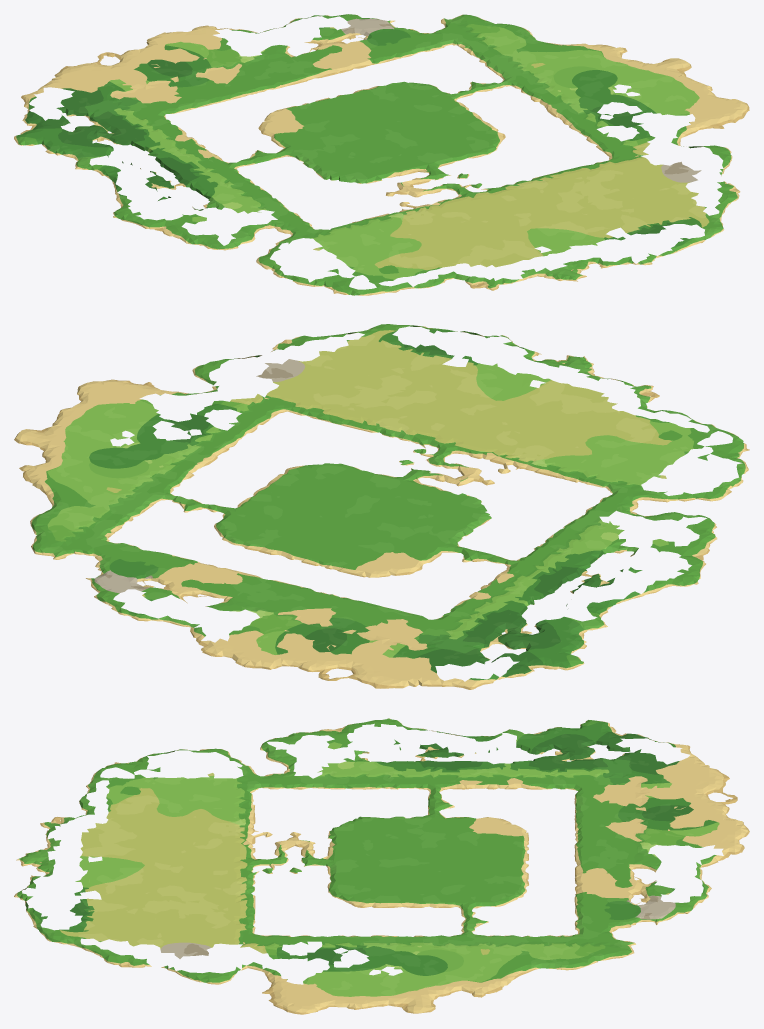
Rendered from Isl-orc4-Ground.fbx.
The picture shows the model from 3 angles, top to bottom: view 1: azimuth 30°, elevation 25°; view 2: azimuth 150°, elevation 25°; view 3: azimuth 270°, elevation 25°; orthographic projection. The views are drawn at different scales.
Parts seen in each view (by area): view 1: Isl-orc4-Ground-c12, Isl-orc4-Ground-c11, Isl-orc4-Ground-c21, Isl-orc4-Ground-c22, Isl-orc4-Ground-c13, Isl-orc4-Ground-c02, Isl-orc4-Ground-c10, Isl-orc4-Ground-c20, Isl-orc4-Ground-c01, Isl-orc4-Ground-c31, Isl-orc4-Ground-c32; view 2: Isl-orc4-Ground-c12, Isl-orc4-Ground-c11, Isl-orc4-Ground-c21, Isl-orc4-Ground-c22, Isl-orc4-Ground-c13, Isl-orc4-Ground-c02, Isl-orc4-Ground-c20, Isl-orc4-Ground-c10, Isl-orc4-Ground-c01, Isl-orc4-Ground-c31, Isl-orc4-Ground-c32, Isl-orc4-Ground-c23; view 3: Isl-orc4-Ground-c12, Isl-orc4-Ground-c11, Isl-orc4-Ground-c21, Isl-orc4-Ground-c22, Isl-orc4-Ground-c13, Isl-orc4-Ground-c02, Isl-orc4-Ground-c20, Isl-orc4-Ground-c10, Isl-orc4-Ground-c31, Isl-orc4-Ground-c01, Isl-orc4-Ground-c32.
Boxes of the visible parts, x1=… form: Isl-orc4-Ground-c12: x1=33, y1=45, x2=421, y2=197; Isl-orc4-Ground-c11: x1=192, y1=139, x2=565, y2=295; Isl-orc4-Ground-c21: x1=422, y1=78, x2=740, y2=243; Isl-orc4-Ground-c22: x1=304, y1=14, x2=672, y2=139; Isl-orc4-Ground-c13: x1=30, y1=25, x2=272, y2=94; Isl-orc4-Ground-c02: x1=14, y1=94, x2=170, y2=217; Isl-orc4-Ground-c10: x1=366, y1=244, x2=590, y2=295; Isl-orc4-Ground-c20: x1=567, y1=206, x2=725, y2=268; Isl-orc4-Ground-c01: x1=113, y1=210, x2=266, y2=269; Isl-orc4-Ground-c31: x1=673, y1=76, x2=749, y2=122; Isl-orc4-Ground-c32: x1=648, y1=58, x2=691, y2=77; Isl-orc4-Ground-c12: x1=205, y1=496, x2=621, y2=681; Isl-orc4-Ground-c11: x1=349, y1=377, x2=749, y2=558; Isl-orc4-Ground-c21: x1=67, y1=335, x2=510, y2=496; Isl-orc4-Ground-c22: x1=19, y1=427, x2=348, y2=603; Isl-orc4-Ground-c13: x1=175, y1=620, x2=464, y2=688; Isl-orc4-Ground-c02: x1=466, y1=567, x2=697, y2=687; Isl-orc4-Ground-c20: x1=332, y1=324, x2=541, y2=377; Isl-orc4-Ground-c10: x1=511, y1=355, x2=731, y2=433; Isl-orc4-Ground-c01: x1=650, y1=491, x2=731, y2=583; Isl-orc4-Ground-c31: x1=52, y1=379, x2=132, y2=426; Isl-orc4-Ground-c32: x1=14, y1=424, x2=66, y2=448; Isl-orc4-Ground-c23: x1=94, y1=594, x2=178, y2=624; Isl-orc4-Ground-c12: x1=386, y1=746, x2=683, y2=873; Isl-orc4-Ground-c11: x1=92, y1=746, x2=389, y2=874; Isl-orc4-Ground-c21: x1=93, y1=870, x2=390, y2=997; Isl-orc4-Ground-c22: x1=386, y1=871, x2=683, y2=998; Isl-orc4-Ground-c13: x1=680, y1=748, x2=749, y2=873; Isl-orc4-Ground-c02: x1=388, y1=718, x2=682, y2=750; Isl-orc4-Ground-c20: x1=14, y1=870, x2=96, y2=952; Isl-orc4-Ground-c10: x1=16, y1=773, x2=96, y2=873; Isl-orc4-Ground-c31: x1=268, y1=994, x2=388, y2=1014; Isl-orc4-Ground-c01: x1=202, y1=718, x2=389, y2=749; Isl-orc4-Ground-c32: x1=388, y1=994, x2=436, y2=1013.
Size of the model in its own units: 105 by 0.4896 by 110.
